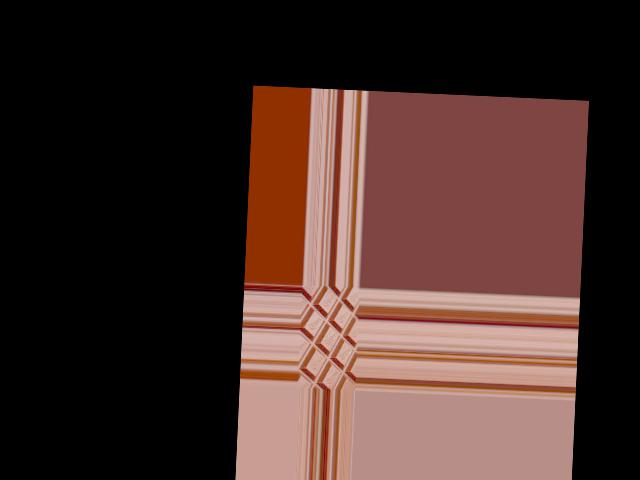chocolate: (296, 287, 357, 390)
